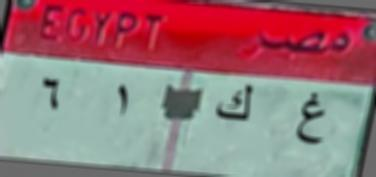1: (114, 81, 136, 122)
6: (34, 76, 68, 117)
ghayn: (290, 87, 332, 154)
kaaf: (206, 75, 259, 132)
